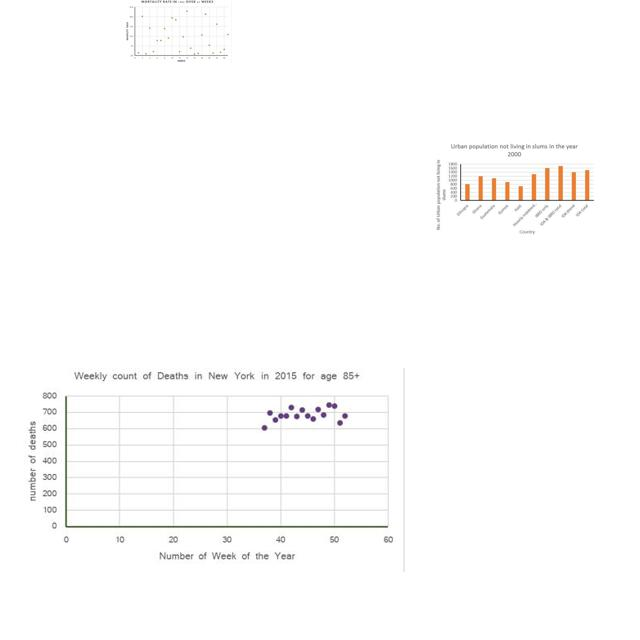Graph: (23, 368, 405, 572), (433, 141, 596, 236), (125, 0, 232, 63)
